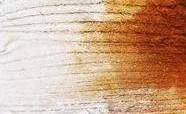Corrosion: (72, 1, 186, 114)
